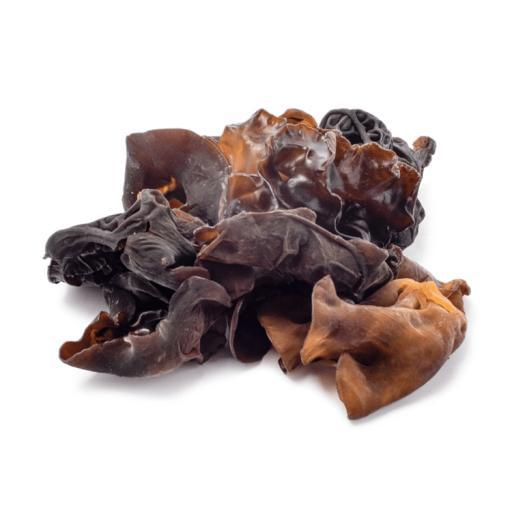mushroom: (38, 106, 481, 420)
